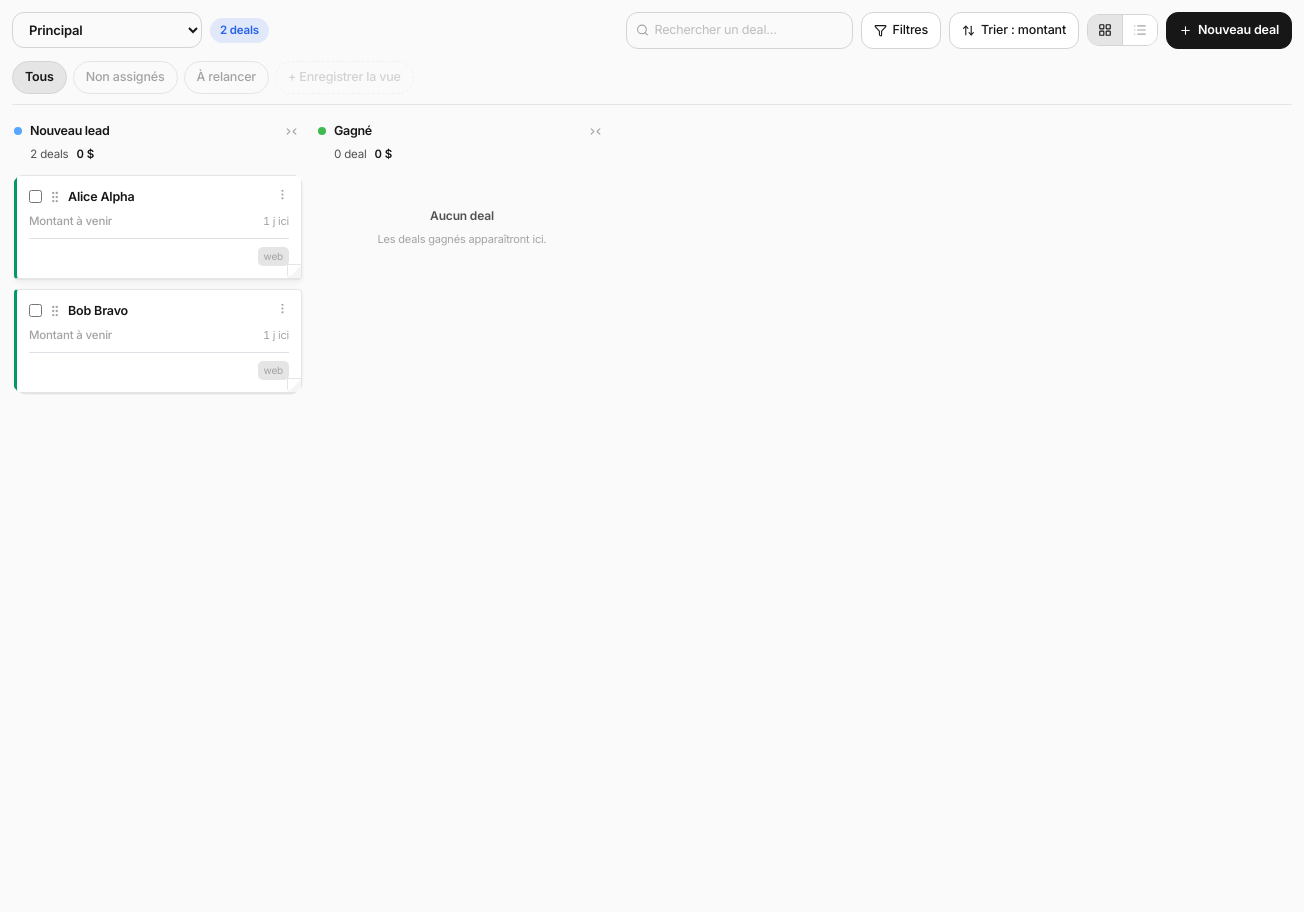
Test case: « Enregistrer la vue » avec un filtre de champ seulement › le bouton s’active quand la seule condition posée porte sur un champ
Expected: the button "+ Enregistrer la vue" is disabled, top-left (275, 61), bottom-right (414, 94)
Click the button "Filtres": (901, 30) top-left (860, 12), bottom-right (941, 49)
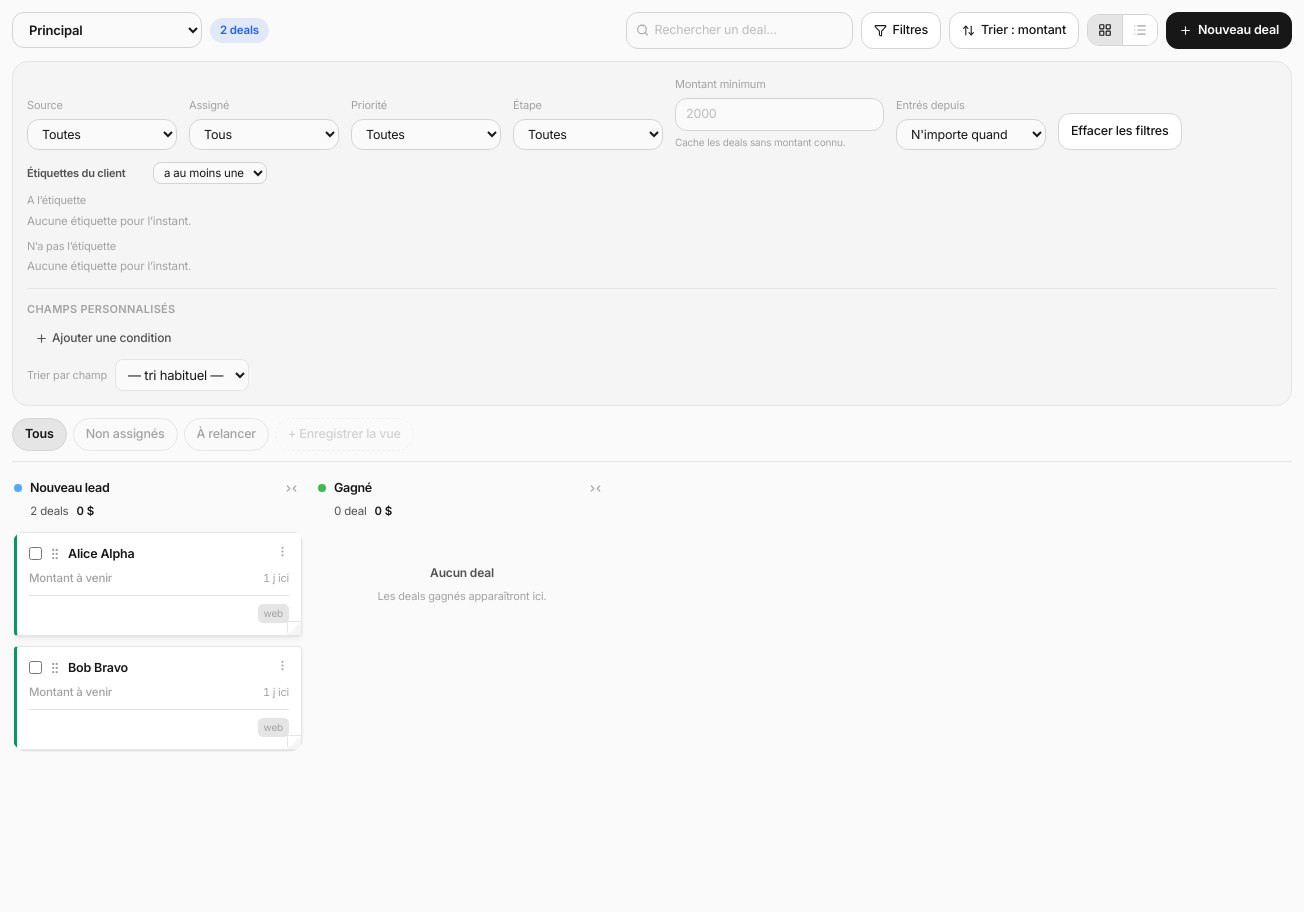
« Urgent » (case) est le premier champ : sa condition est complète d'emblée.
Click the button "Ajouter une condition": (103, 338) top-left (27, 325), bottom-right (179, 351)
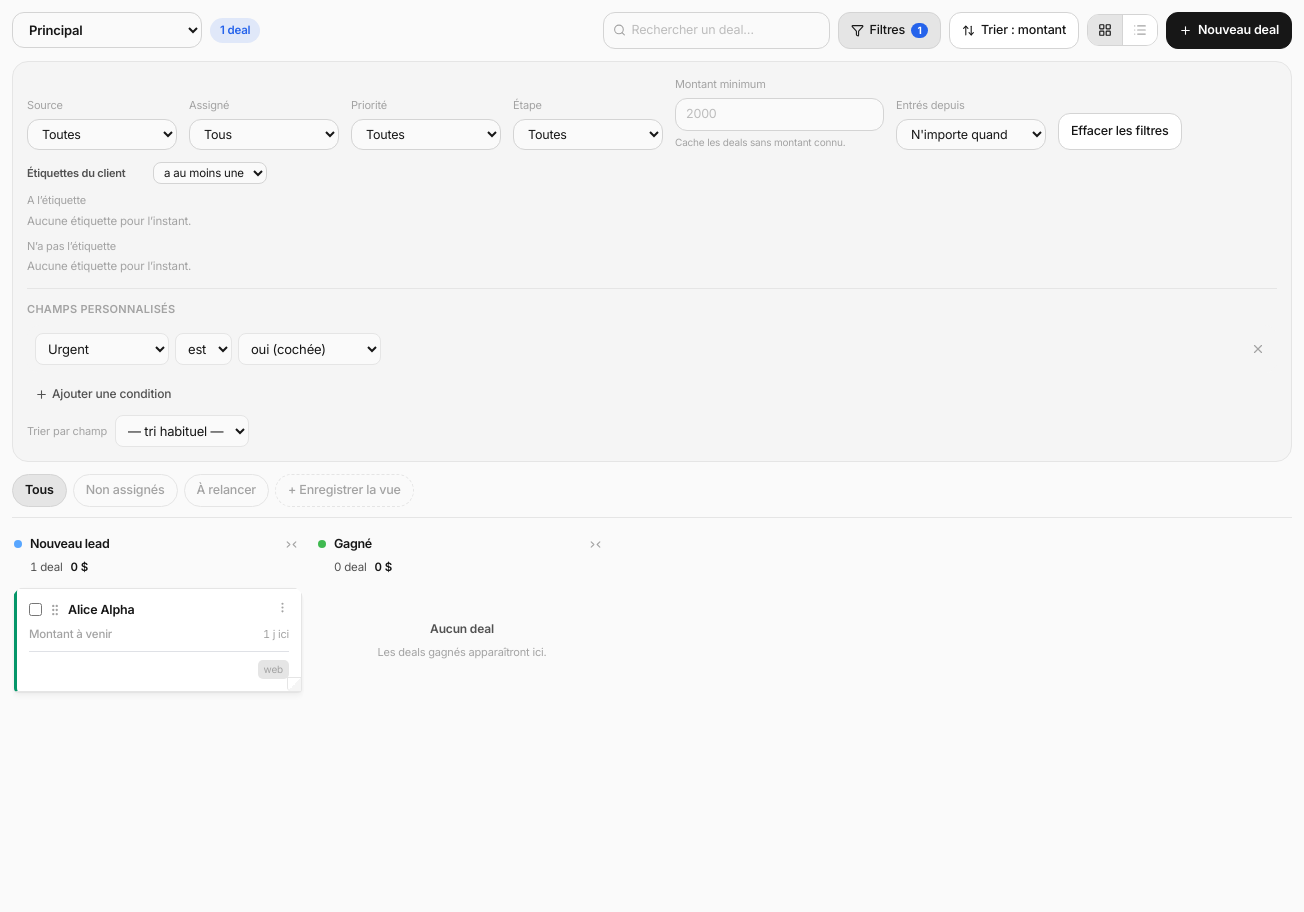
Result: the button "+ Enregistrer la vue" is enabled at top-left (275, 474), bottom-right (414, 507)
